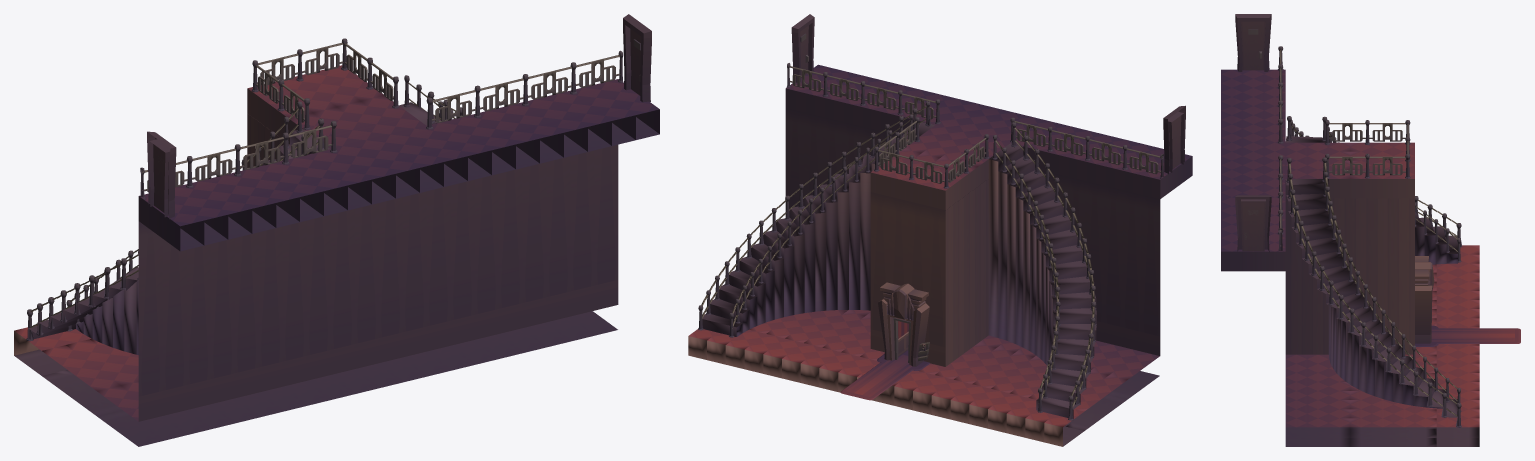
Rendered from SM_ElevatorsRoom.fbx.
3 renders of one model, left to right at view 1: azimuth 30°, elevation 25°; view 2: azimuth 150°, elevation 25°; view 3: azimuth 270°, elevation 25°, orthographic. The views are drawn at different scales.
Visible parts, largest first — view 1: SM_BackgroundPlane.009; view 2: SM_BackgroundPlane.009; view 3: SM_BackgroundPlane.009.
Boxes of the visible parts, x1,y1,x2,y2 form: SM_BackgroundPlane.009: [14, 14, 659, 446]; SM_BackgroundPlane.009: [688, 14, 1192, 446]; SM_BackgroundPlane.009: [1221, 14, 1520, 446].
Bounding box in the file's own units: 2014 × 1392 × 1284.
